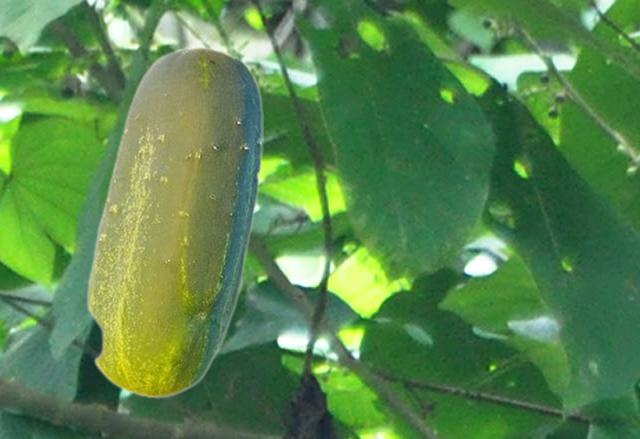cucumber: (85, 45, 262, 398)
